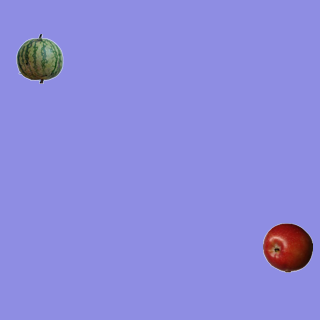Apple Braeburn: (262, 222, 312, 272)
Watermelon: (14, 33, 64, 83)
